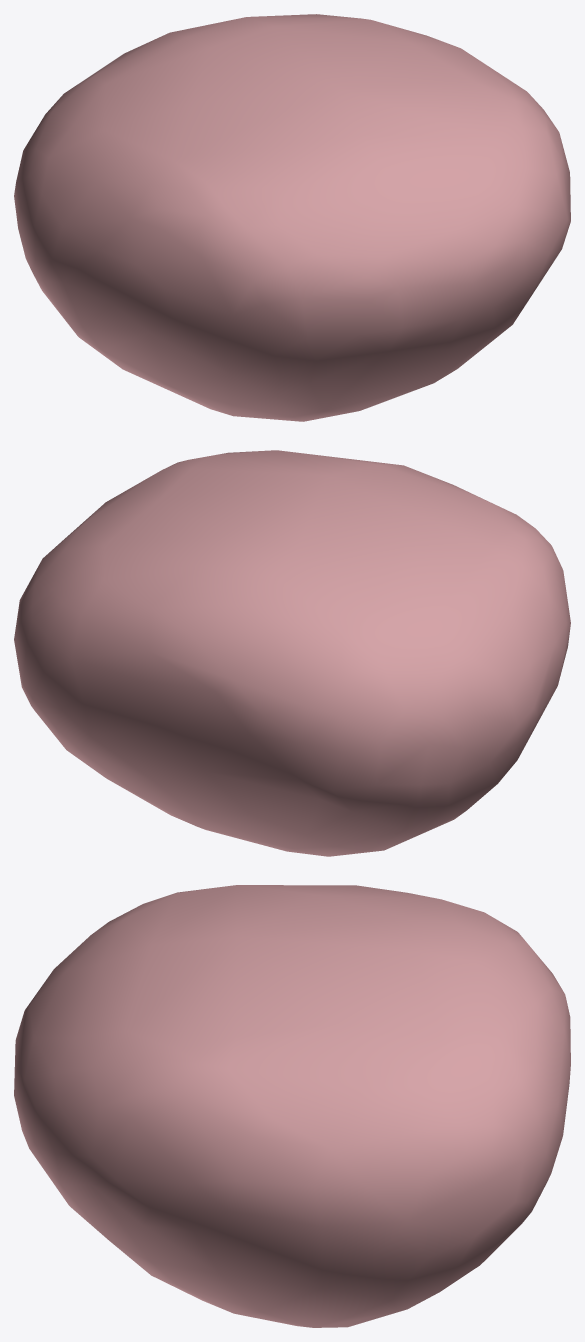
3 views of the same model, one above another, from view 1: azimuth 30°, elevation 25°; view 2: azimuth 150°, elevation 25°; view 3: azimuth 270°, elevation 25° (orthographic). The views are drawn at different scales.
Visible parts, largest first — view 1: ZA_0fa320e13ac298d5; view 2: ZA_0fa320e13ac298d5; view 3: ZA_0fa320e13ac298d5.
Part boxes in pixels (box(x1,y1,x2,y2)): ZA_0fa320e13ac298d5: box(14, 14, 570, 421); ZA_0fa320e13ac298d5: box(14, 450, 570, 856); ZA_0fa320e13ac298d5: box(14, 885, 570, 1327).
Bounding box in the file's own units: 0.0357 × 0.0234 × 0.0328.
